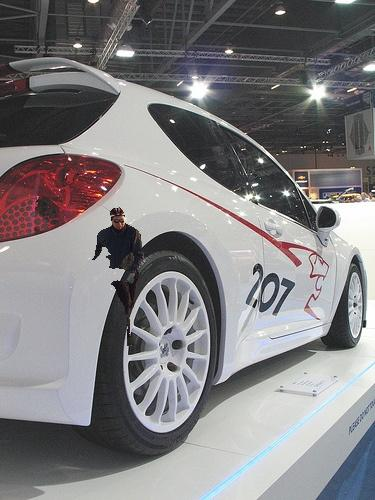tampered: (93, 208, 144, 346)
